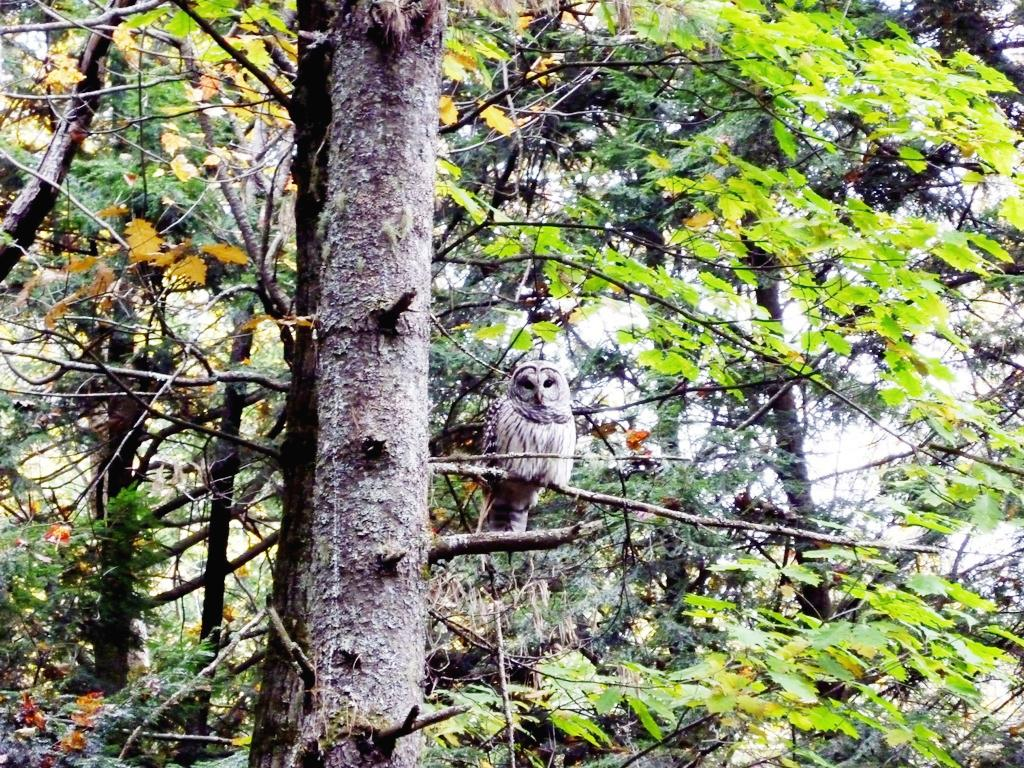Owl: (452, 356, 592, 536)
